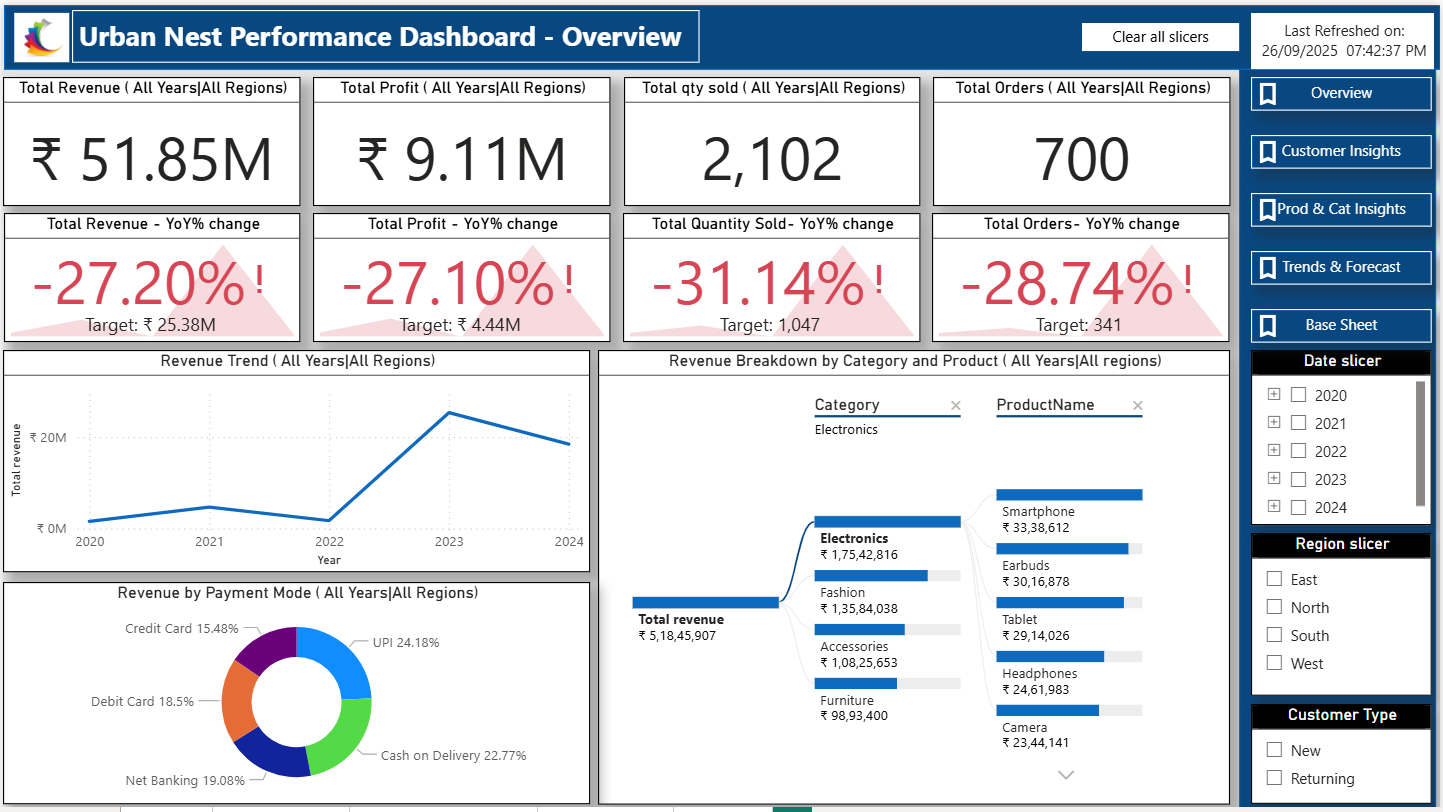

This screenshot's page, from the dashboard's own definition file:
{"tool":"powerbi","page":{"name":"Overview","canvas":[1280,720],"ordinal":0},"visuals":[{"type":"shape","box":[1101.3,0,175.6,720],"z":0,"group":"g1"},{"type":"card","fields":{"Values":["Measure table.Total revenue"]},"box":[0,63.8,265.1,115.3],"z":0},{"type":"card","fields":{"Values":["Measure table.Total Profit"]},"box":[275.8,63.8,265.1,115.3],"z":1000},{"type":"slicer","title":"Date slicer","fields":{"Values":["Calendar table.Date Hierarchy.Year","Calendar table.Date Hierarchy.Quarter","Calendar table.Date Hierarchy.Month"]},"box":[1112,307,161,156],"z":1000,"group":"g1"},{"type":"card","fields":{"Values":["Measure table.total quantity sold"]},"box":[553.3,63.8,264.2,115.3],"z":2000},{"type":"slicer","title":"Region slicer","fields":{"Values":["Regions.RegionName"]},"box":[1112,470.5,161,145],"z":2000,"group":"g1"},{"type":"shape","box":[0.9,0,1279.5,57.6],"z":3000,"group":"g1"},{"type":"kpi","title":"Total Revenue - YoY% change","fields":{"Goal":["Measure table.revenue last year"],"TrendLine":["Calendar table.Year"],"Indicator":["Measure table.% revenue change since last year"]},"box":[0.9,185.3,264.2,115.3],"z":3000},{"type":"kpi","title":"Total Profit - YoY% change","fields":{"TrendLine":["Calendar table.Year"],"Goal":["Measure table.Profit last Year"],"Indicator":["Measure table.% profit change since last year"]},"box":[275.8,185.3,265.1,115.3],"z":4000},{"type":"slicer","title":"Customer Type","fields":{"Values":["Customers.CustomerType"]},"box":[1112,623,161,89],"z":4000,"group":"g1"},{"type":"actionButton","title":"Overview","box":[1111.9,63.8,161.4,30.1],"z":5000,"group":"g1"},{"type":"kpi","title":"Total Quantity Sold- YoY% change","fields":{"Goal":["Measure table.Quantity sold last Year"],"TrendLine":["Calendar table.Year"],"Indicator":["Measure table.% sales change since last year"]},"box":[552.4,185.3,265.1,115.3],"z":5000},{"type":"card","fields":{"Values":["Measure table.Total orders"]},"box":[828.2,63.8,265.1,115.3],"z":6000},{"type":"actionButton","title":"Overview","box":[1111.9,115.5,161,30.1],"z":6000,"group":"g1"},{"type":"actionButton","title":"Overview","box":[1111.9,167.2,161.4,30],"z":7000,"group":"g1"},{"type":"kpi","title":"Total Orders- YoY% change","fields":{"TrendLine":["Calendar table.Year"],"Goal":["Measure table.previous year order"],"Indicator":["Measure table.% order change since last year"]},"box":[827.3,185.3,265.1,115.3],"z":7000},{"type":"actionButton","title":"Overview","box":[1111.9,218.8,161.4,30.1],"z":8000,"group":"g1"},{"type":"lineChart","fields":{"Category":["Calendar table.Date Hierarchy.Year","Calendar table.Date Hierarchy.Month"],"Y":["Measure table.Total revenue"]},"box":[0,307,523,198],"z":8000},{"type":"actionButton","title":"Overview","box":[1111.9,270.4,161.4,30.1],"z":9000,"group":"g1"},{"type":"image","box":[8,0,53.2,57.6],"z":10000,"group":"g1"},{"type":"card","fields":{"Values":["Measure table.Last refresh"]},"box":[1111.7,7.5,162.7,49.8],"z":11000,"group":"g1"},{"type":"decompositionTreeVisual","fields":{"ExplainBy":["Products.Category","Products.ProductName"],"Analyze":["Measure table.Total revenue"]},"box":[530,307,563,405],"z":11000},{"type":"textbox","box":[61.3,4.4,558.6,47],"z":12000,"group":"g1"},{"type":"donutChart","fields":{"Y":["Measure table.Total revenue"],"Series":["PaymentModes.PaymentMode"],"Category":["PaymentModes.PaymentMode"]},"box":[0,514,523,198],"z":12000},{"type":"actionButton","box":[961.2,16,140.1,25.4],"z":13000,"group":"g1"},{"type":"group","id":"g1","title":"page1 layout","box":[0.9,0,1279.5,720],"z":23001}]}

Visuals, with their boxes in screenshot pixels (x1, y1, x2, y2), scaled from the page's 1280x720 canvas onto the 1443x812 screenshot:
shape: 1242 0 1440 811
card - Measure table.Total revenue: 0 72 299 202
card - Measure table.Total Profit: 311 72 610 202
"Date slicer" slicer: 1254 346 1435 522
card - Measure table.total quantity sold: 624 72 922 202
"Region slicer" slicer: 1254 531 1435 694
shape: 1 0 1442 65
"Total Revenue - YoY% change" kpi: 1 209 299 339
"Total Profit - YoY% change" kpi: 311 209 610 339
"Customer Type" slicer: 1254 703 1435 803
"Overview" actionButton: 1253 72 1435 106
"Total Quantity Sold- YoY% change" kpi: 623 209 922 339
card - Measure table.Total orders: 934 72 1233 202
"Overview" actionButton: 1253 130 1435 164
"Overview" actionButton: 1253 189 1435 222
"Total Orders- YoY% change" kpi: 933 209 1232 339
"Overview" actionButton: 1253 247 1435 281
lineChart - Calendar table.Date Hierarchy.Year x Calendar table.Date Hierarchy.Month: 0 346 590 570
"Overview" actionButton: 1253 305 1435 339
image: 9 0 69 65
card - Measure table.Last refresh: 1253 8 1437 65
decompositionTreeVisual - Products.Category x Products.ProductName: 597 346 1232 803
textbox: 69 5 699 58
donutChart - Measure table.Total revenue x PaymentModes.PaymentMode: 0 580 590 803
actionButton: 1084 18 1242 47
"page1 layout" group: 1 0 1442 811
